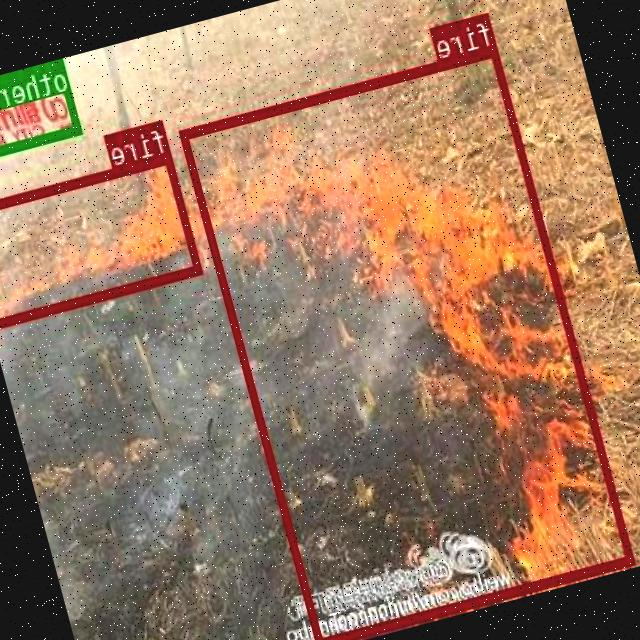fire: (179, 43, 636, 640), (0, 150, 203, 326)
